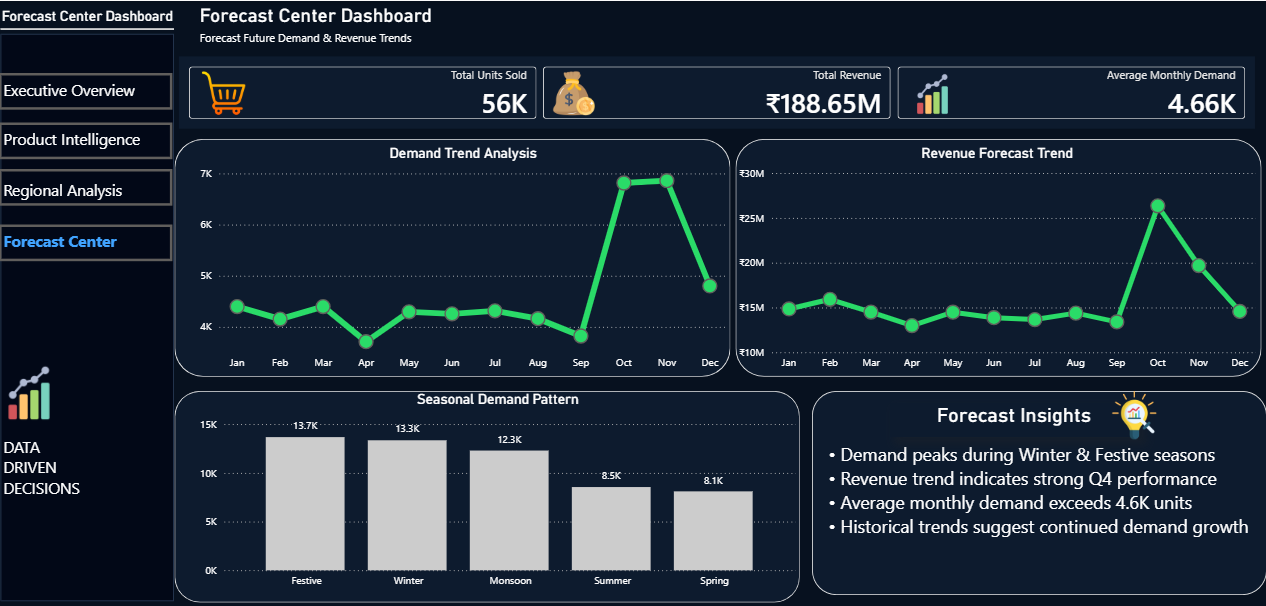

What the dashboard file says about the page in this screenshot:
{"tool":"powerbi","page":{"name":"PAGE 4","canvas":[1521,730],"ordinal":3},"visuals":[{"type":"shape","box":[211.1,166.2,666.9,285.2],"z":0},{"type":"shape","title":"Forecast Center Dashboard","box":[2,0,208,720],"z":1000},{"type":"textbox","title":"Forecast Center Dashboard","box":[236,4,1000,62],"z":2000},{"type":"cardVisual","fields":{"Data":["SalesTable.Total Units Sold","SalesTable.Total Revenue","SalesTable.Average Monthly Demand"]},"box":[210.3,62,1303.2,97.6],"z":3000},{"type":"shape","box":[883,166.2,631,285.2],"z":4000},{"type":"shape","box":[211.1,467.1,750,253.8],"z":5000},{"type":"shape","box":[974.6,467.1,545.7,244.8],"z":6000},{"type":"textbox","box":[0,88,210,38],"z":7000},{"type":"textbox","box":[0,148,210,38],"z":8000},{"type":"textbox","box":[0,208,210,38],"z":9000},{"type":"textbox","box":[0,270,212,38],"z":10000},{"type":"lineChart","title":"Demand Trend Analysis","fields":{"Category":["SalesTable.Month_Name"],"Y":["SalesTable.Total Units Sold"]},"box":[235.8,172.9,642.2,278.5],"z":11000},{"type":"lineChart","title":"Revenue Forecast Trend","fields":{"Category":["SalesTable.Month_Name"],"Y":["SalesTable.Total Revenue"]},"box":[882.5,172.9,631,278.5],"z":12000},{"type":"columnChart","title":"Seasonal Demand Pattern","fields":{"Category":["SalesTable.Season"],"Y":["SalesTable.Total Units Sold"]},"box":[235.8,467.1,725.3,244.8],"z":13000},{"type":"textbox","box":[994.8,523.2,518.7,168.4],"z":14000},{"type":"textbox","title":"Forecast Insights","box":[1068.9,482.8,298.7,40.4],"z":15000},{"type":"image","box":[214,84,110,52],"z":16000},{"type":"image","box":[642,82,94,56],"z":17000},{"type":"image","box":[1063,84,113,54],"z":18000},{"type":"image","box":[1318,468,86,58],"z":19000},{"type":"actionButton","box":[0,86,208,44],"z":20000},{"type":"actionButton","box":[0,146,208,44],"z":21000},{"type":"actionButton","box":[0,202,208,44],"z":22000},{"type":"actionButton","box":[0,268,208,44],"z":23000},{"type":"image","box":[0,386,72,166],"z":24000},{"type":"textbox","box":[0,516,122,162],"z":25000},{"type":"shape","box":[994,36,300,26],"z":26000}]}

Visuals, with their boxes in screenshot pixels (x1, y1, x2, y2), scaled from the page's 1521x730 canvas onto the 1266x606 screenshot:
shape: 176, 138, 731, 375
"Forecast Center Dashboard" shape: 2, 0, 175, 598
"Forecast Center Dashboard" textbox: 196, 3, 1029, 55
cardVisual - SalesTable.Total Units Sold x SalesTable.Total Revenue: 175, 51, 1260, 132
shape: 735, 138, 1260, 375
shape: 176, 388, 800, 598
shape: 811, 388, 1265, 591
textbox: 0, 73, 175, 105
textbox: 0, 123, 175, 154
textbox: 0, 173, 175, 204
textbox: 0, 224, 176, 256
"Demand Trend Analysis" lineChart: 196, 144, 731, 375
"Revenue Forecast Trend" lineChart: 735, 144, 1260, 375
"Seasonal Demand Pattern" columnChart: 196, 388, 800, 591
textbox: 828, 434, 1260, 574
"Forecast Insights" textbox: 890, 401, 1138, 434
image: 178, 70, 270, 113
image: 534, 68, 613, 115
image: 885, 70, 979, 115
image: 1097, 389, 1169, 437
actionButton: 0, 71, 173, 108
actionButton: 0, 121, 173, 158
actionButton: 0, 168, 173, 204
actionButton: 0, 222, 173, 259
image: 0, 320, 60, 458
textbox: 0, 428, 102, 563
shape: 827, 30, 1077, 51
